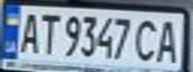3: (78, 12, 100, 59)
4: (96, 13, 115, 60)
7: (112, 15, 136, 61)
9: (57, 11, 81, 57)
A: (154, 16, 184, 64), (15, 9, 42, 54)
C: (133, 16, 163, 63)
T: (33, 10, 60, 55)
